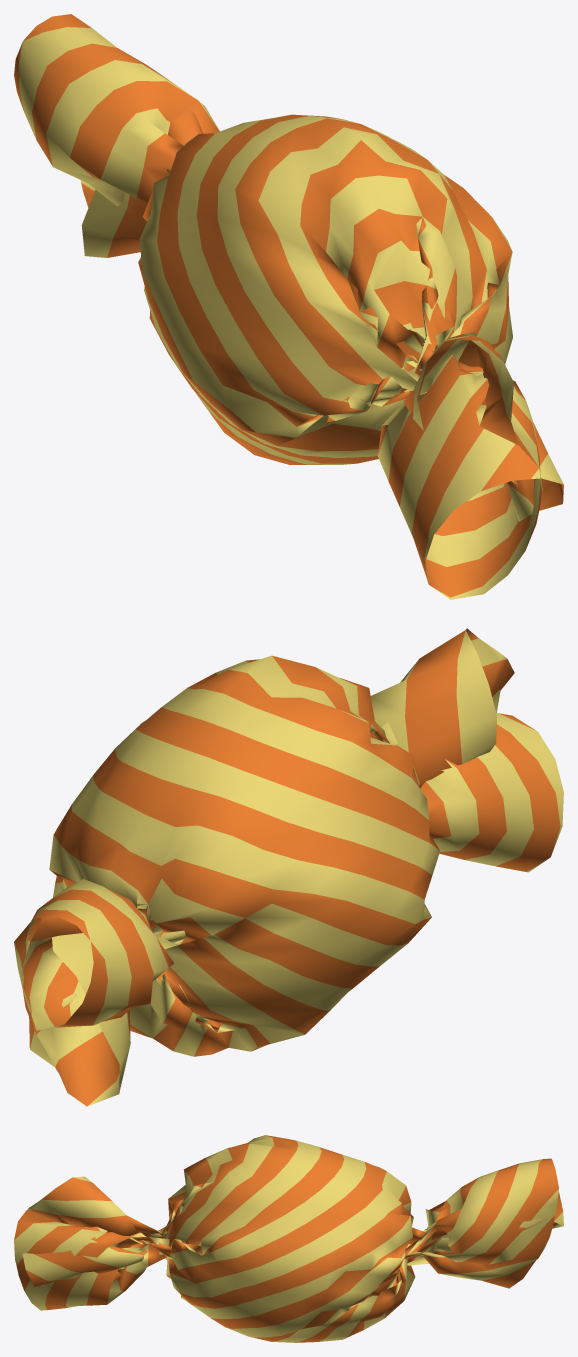
File: asset.glb
3 renders of one model, top to bottom at view 1: azimuth 30°, elevation 25°; view 2: azimuth 150°, elevation 25°; view 3: azimuth 270°, elevation 25°, orthographic. The views are drawn at different scales.
Visible parts, largest first — view 1: Cylinder.003; view 2: Cylinder.003; view 3: Cylinder.003.
Boxes of the visible parts, box(x1,y1,x2,y2) form: Cylinder.003: box(14, 14, 563, 599); Cylinder.003: box(14, 628, 563, 1106); Cylinder.003: box(14, 1135, 563, 1342).
Bounding box in the file's own units: 1.45 × 1.54 × 3.93.
